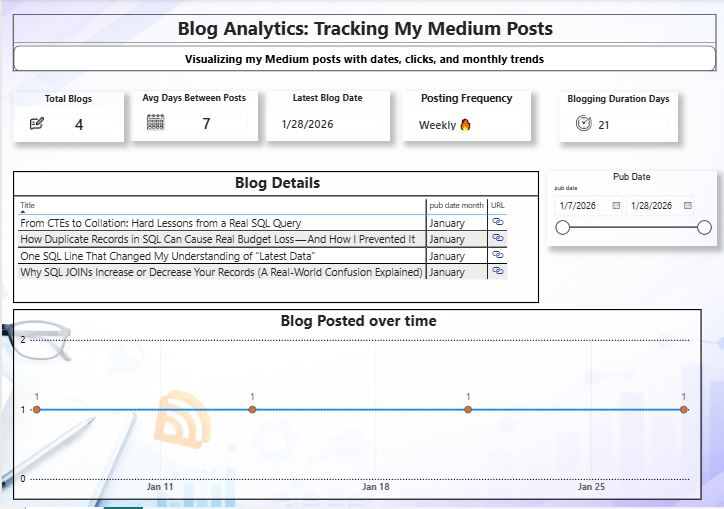

This screenshot's page, from the dashboard's own definition file:
{"tool":"powerbi","page":{"name":"Page 2","canvas":[1280,900],"ordinal":0},"visuals":[{"type":"shape","title":"Blog Analytics: Tracking My Medium Posts","box":[20.2,25.9,1245.6,100.8],"z":0},{"type":"cardVisual","title":"Total Blogs","fields":{"Data":["@syedmuhammad1422 (2).Totalblogs"]},"box":[20.2,164.2,195.8,87.8],"z":1000},{"type":"cardVisual","title":"Avg Days Between Posts","fields":{"Data":["@syedmuhammad1422 (2).Average Days Between"]},"box":[226.8,163.8,226.8,88.2],"z":2000},{"type":"cardVisual","title":"Latest Blog Date","fields":{"Data":["@syedmuhammad1422 (2).Latest Blog Date"]},"box":[466.2,163.8,221.4,88.2],"z":3000},{"type":"cardVisual","title":"Posting Frequency","fields":{"Data":["@syedmuhammad1422 (2).Posting Frequency"]},"box":[708.7,163,228.5,90.4],"z":4000},{"type":"slicer","title":"Pub Date","fields":{"Values":["@syedmuhammad1422 (2).pub date"]},"box":[965.6,304.7,299.4,132.9],"z":5000},{"type":"cardVisual","title":"Blogging Duration Days","fields":{"Data":["@syedmuhammad1422 (2).Blogging Duration (Days)"]},"box":[986.4,164.2,210.2,87.8],"z":6000},{"type":"tableEx","title":"Blog Details","fields":{"Values":["@syedmuhammad1422 (2).Title","@syedmuhammad1422 (2).pub date month","@syedmuhammad1422 (2).URL"]},"box":[19.8,304.2,932.4,234],"z":7000},{"type":"lineChart","title":"Blog Posted over time","fields":{"Y":["@syedmuhammad1422 (2).Totalblogs"],"Category":["@syedmuhammad1422 (2).pub date"]},"box":[19.8,549,1220.4,338.4],"z":8000}]}

Visuals, with their boxes in screenshot pixels (x1, y1, x2, y2), scaled from the page's 1280x900 canvas onto the 724x509 screenshot:
"Blog Analytics: Tracking My Medium Posts" shape: detection(11, 15, 716, 72)
"Total Blogs" cardVisual: detection(11, 93, 122, 143)
"Avg Days Between Posts" cardVisual: detection(128, 93, 257, 143)
"Latest Blog Date" cardVisual: detection(264, 93, 389, 143)
"Posting Frequency" cardVisual: detection(401, 92, 530, 143)
"Pub Date" slicer: detection(546, 172, 716, 247)
"Blogging Duration Days" cardVisual: detection(558, 93, 677, 143)
"Blog Details" tableEx: detection(11, 172, 539, 304)
"Blog Posted over time" lineChart: detection(11, 310, 701, 502)
